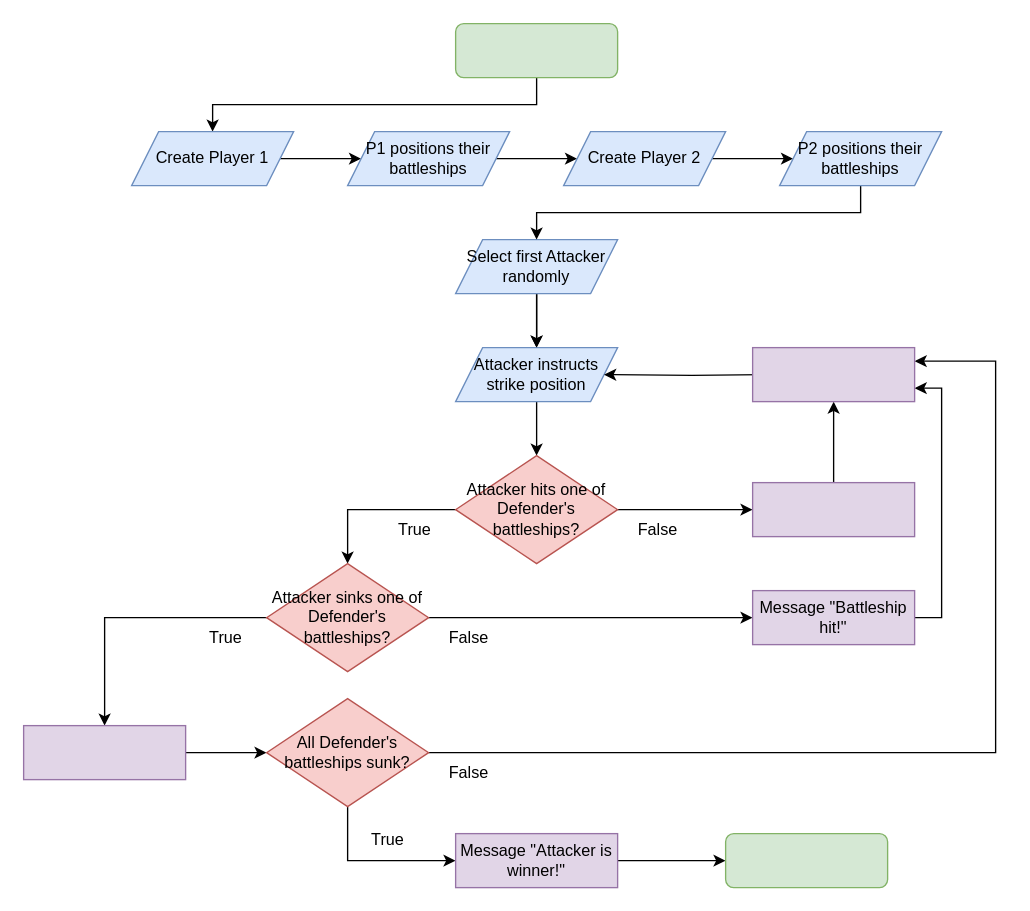
The diagram is 1030 pixels wide and 911 high, and some of its shapes have lost their labels. Here are the shapes that lost their labels. From the top down, the box of each, then its label:
(454, 22, 618, 78): Starts
(751, 346, 915, 402): Switch Attacker/Defender
(751, 481, 915, 537): Message "Missed!"
(22, 724, 186, 780): Message "Battleship sunk!"
(724, 832, 888, 888): Ends
